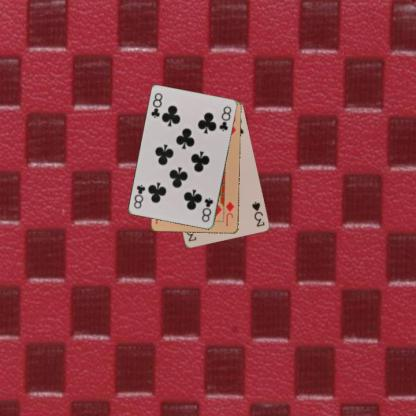3s: (250, 199, 266, 228)
8c: (198, 195, 214, 224), (149, 90, 164, 119)
Jd: (223, 199, 236, 227)
